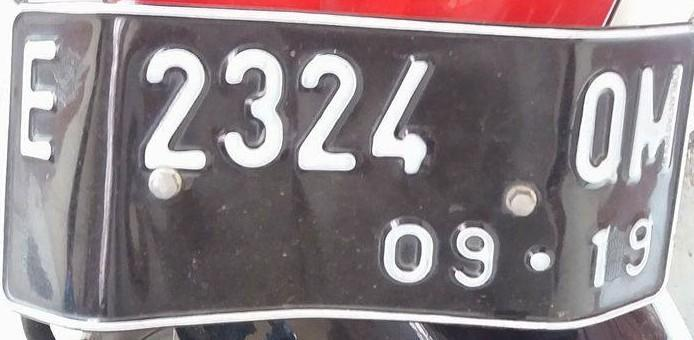clone-license-plate: (7, 5, 693, 323)
